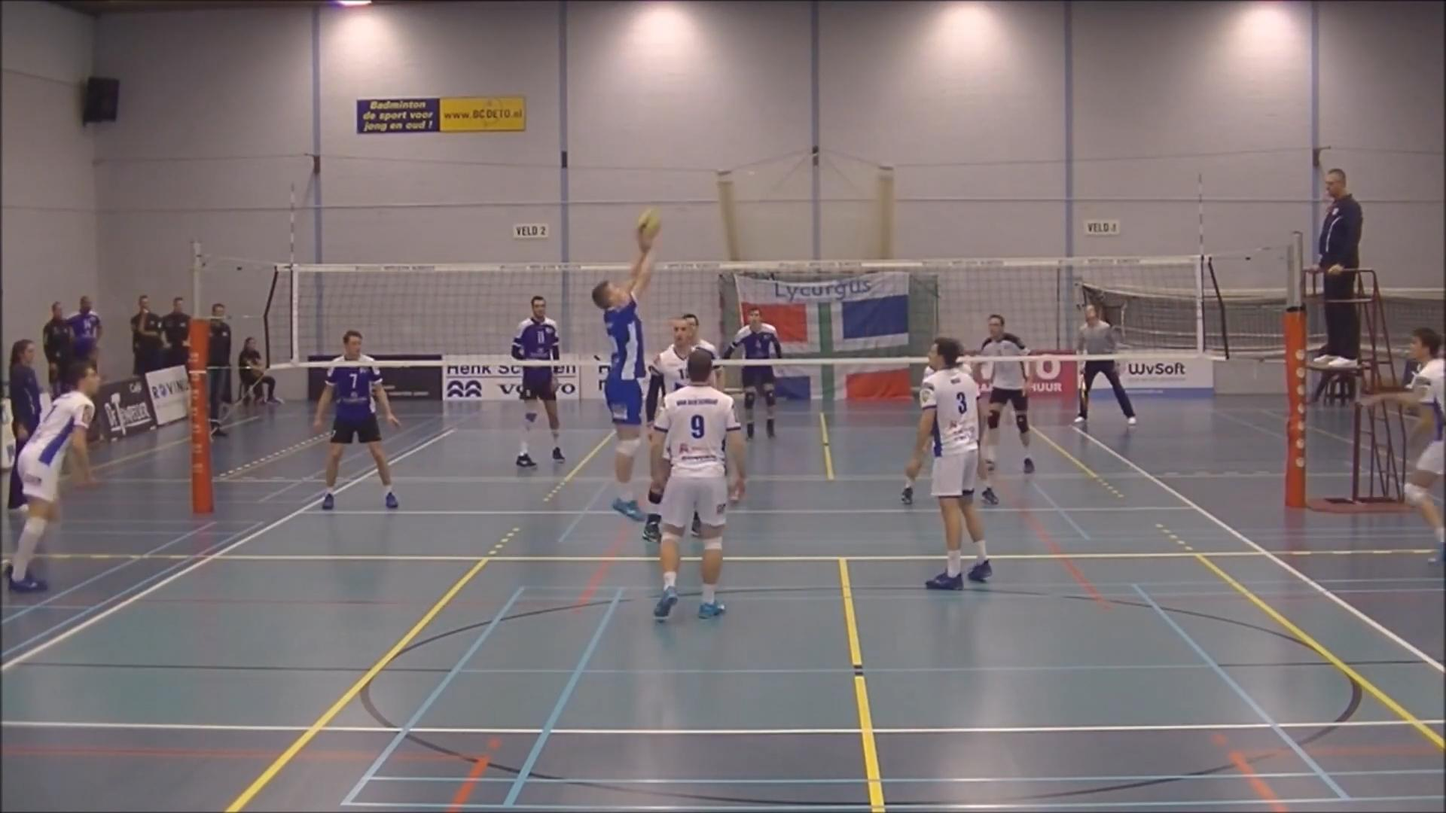Player: (651, 349, 744, 620), (5, 361, 99, 592), (906, 338, 991, 589), (1365, 328, 1445, 562), (313, 330, 399, 510), (980, 314, 1034, 473), (645, 315, 715, 423), (516, 367, 564, 467), (741, 364, 774, 439), (682, 313, 717, 358), (977, 458, 999, 504)
Set: (583, 228, 675, 530)
ball: (629, 212, 663, 246)
